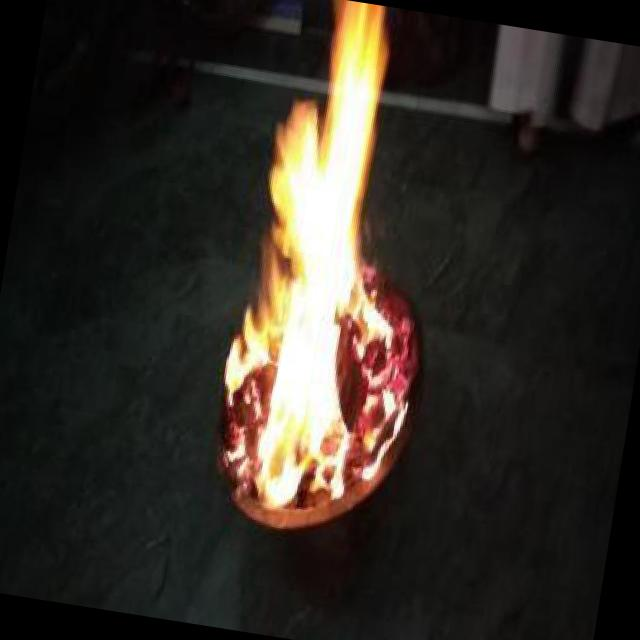Smoke: (197, 0, 447, 530)
